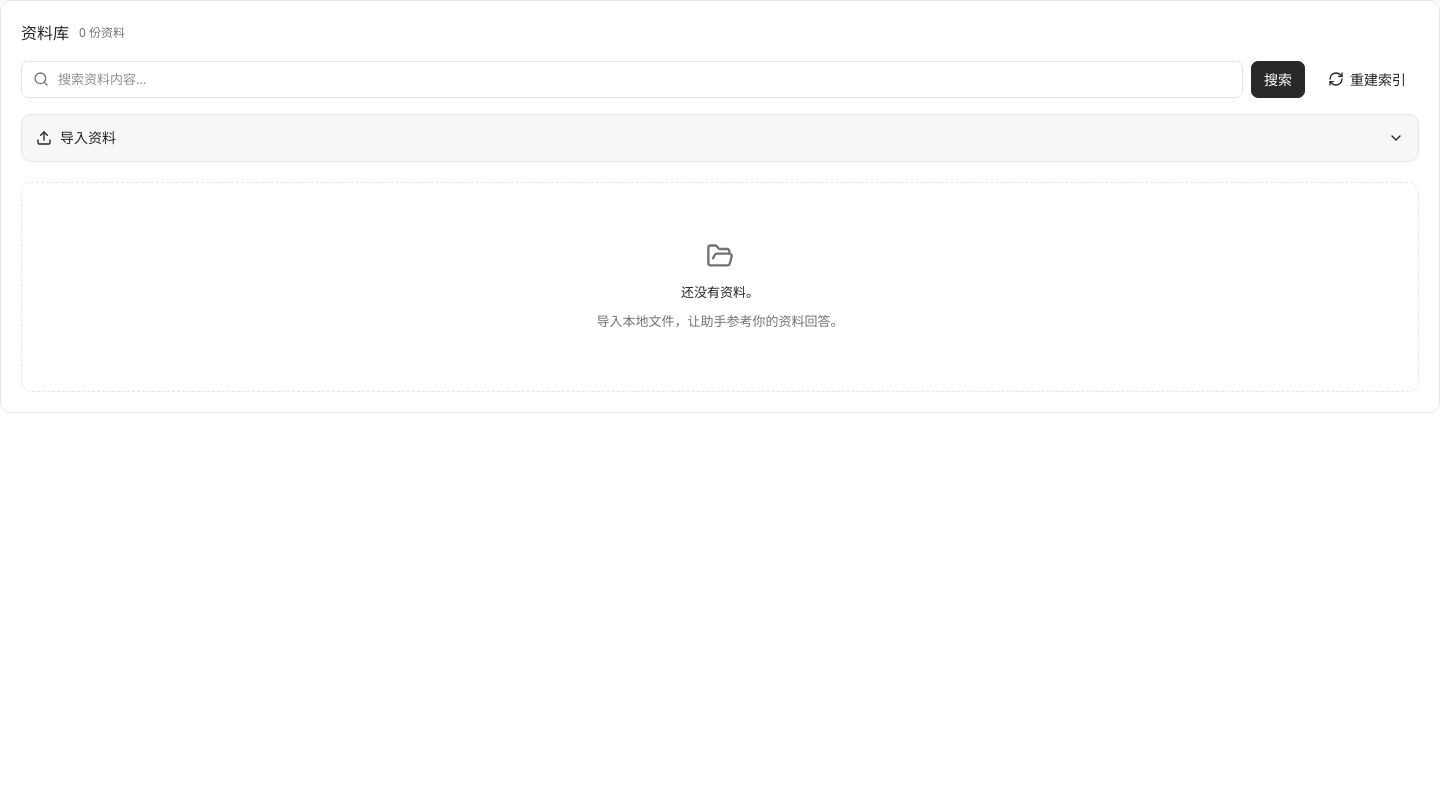
MaterialsLibrary › shows import field errors and IPC failures
The image size is (1440, 810).
Expected: the text "还没有资料。" is shown, [681,282,759,303]
Click the heading "导入资料" at (88, 137), box [36,128,1404,147]
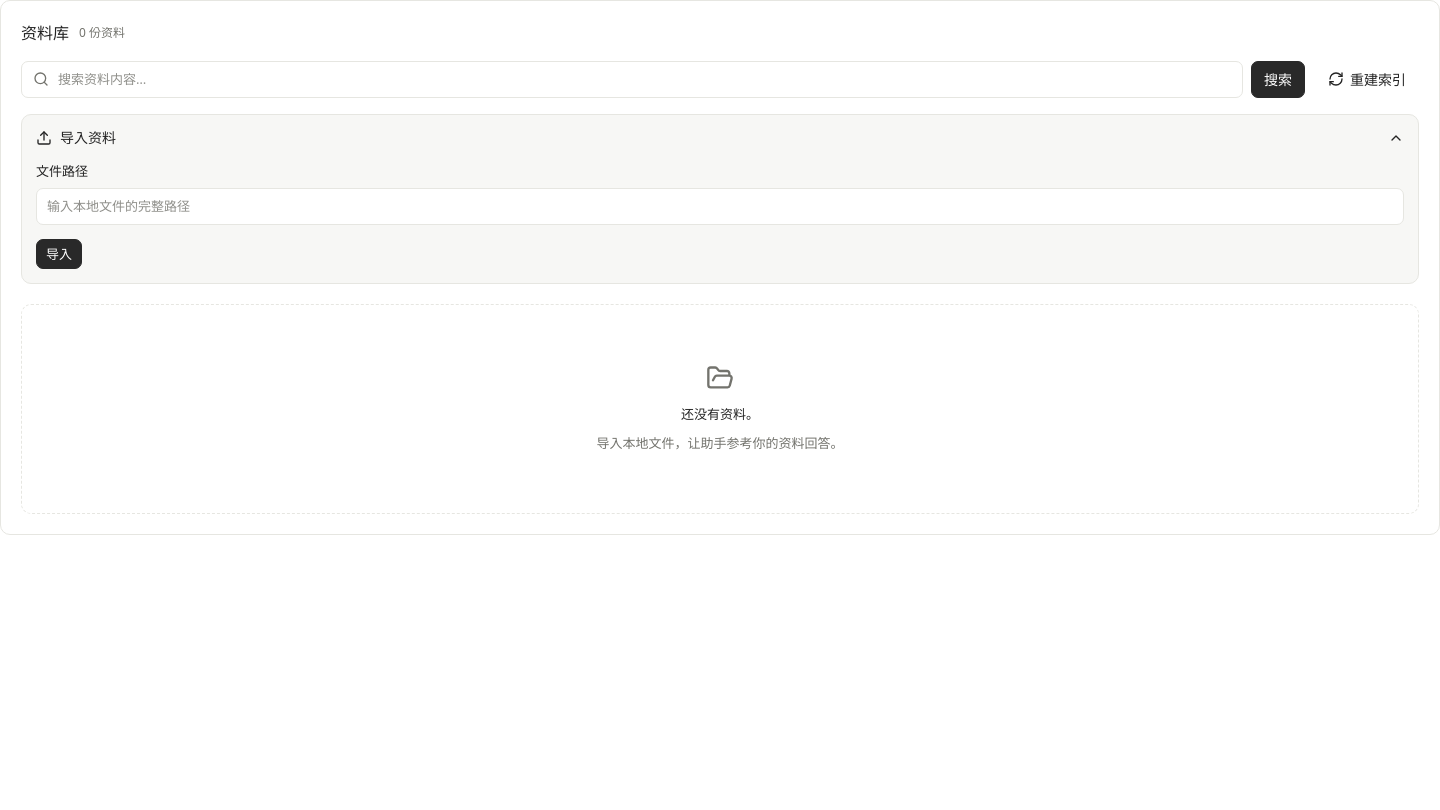
Type "relative.md" into the field labelled "文件路径" at (720, 206), box [36,188,1404,225]
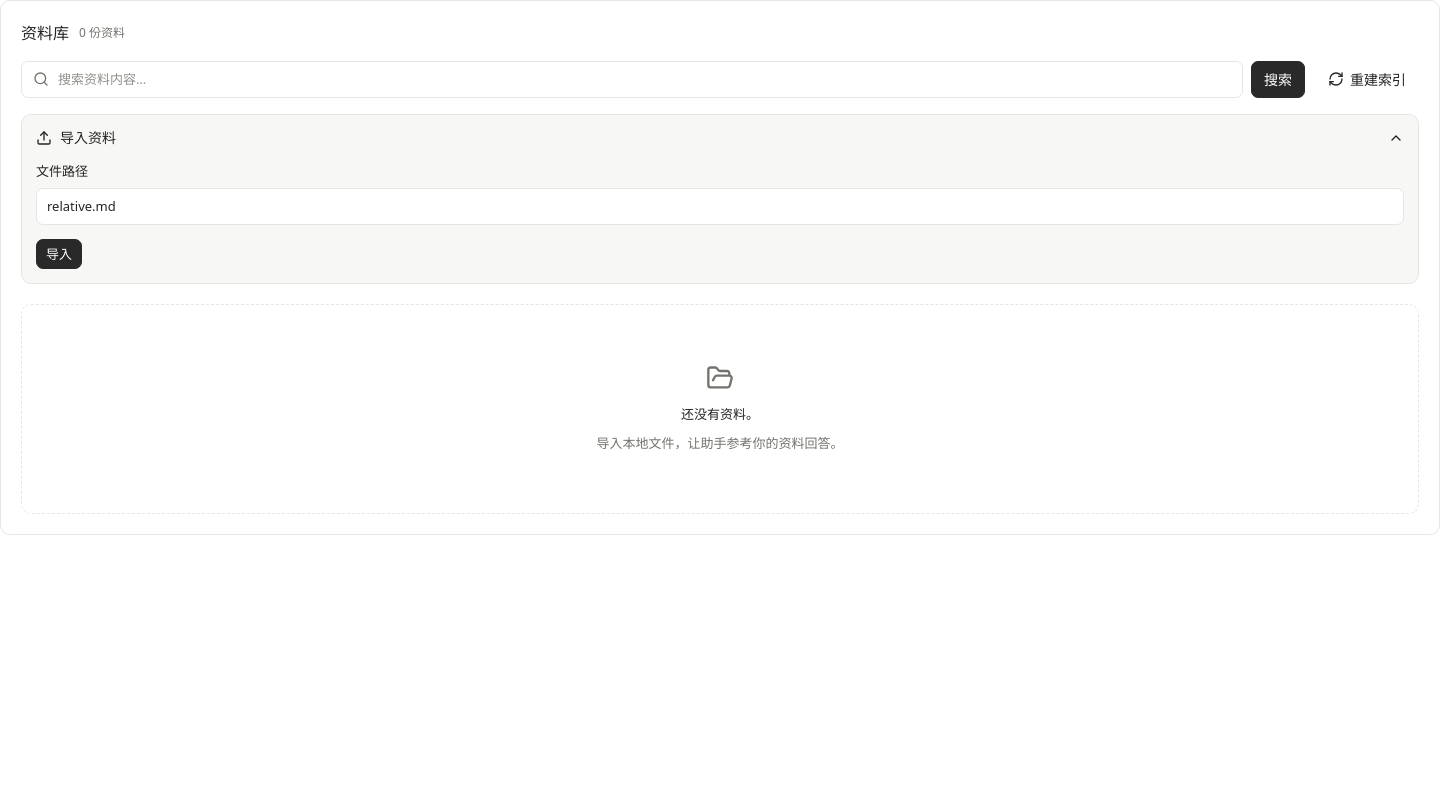
Click the button "导入" at (59, 254), box [36,239,82,269]
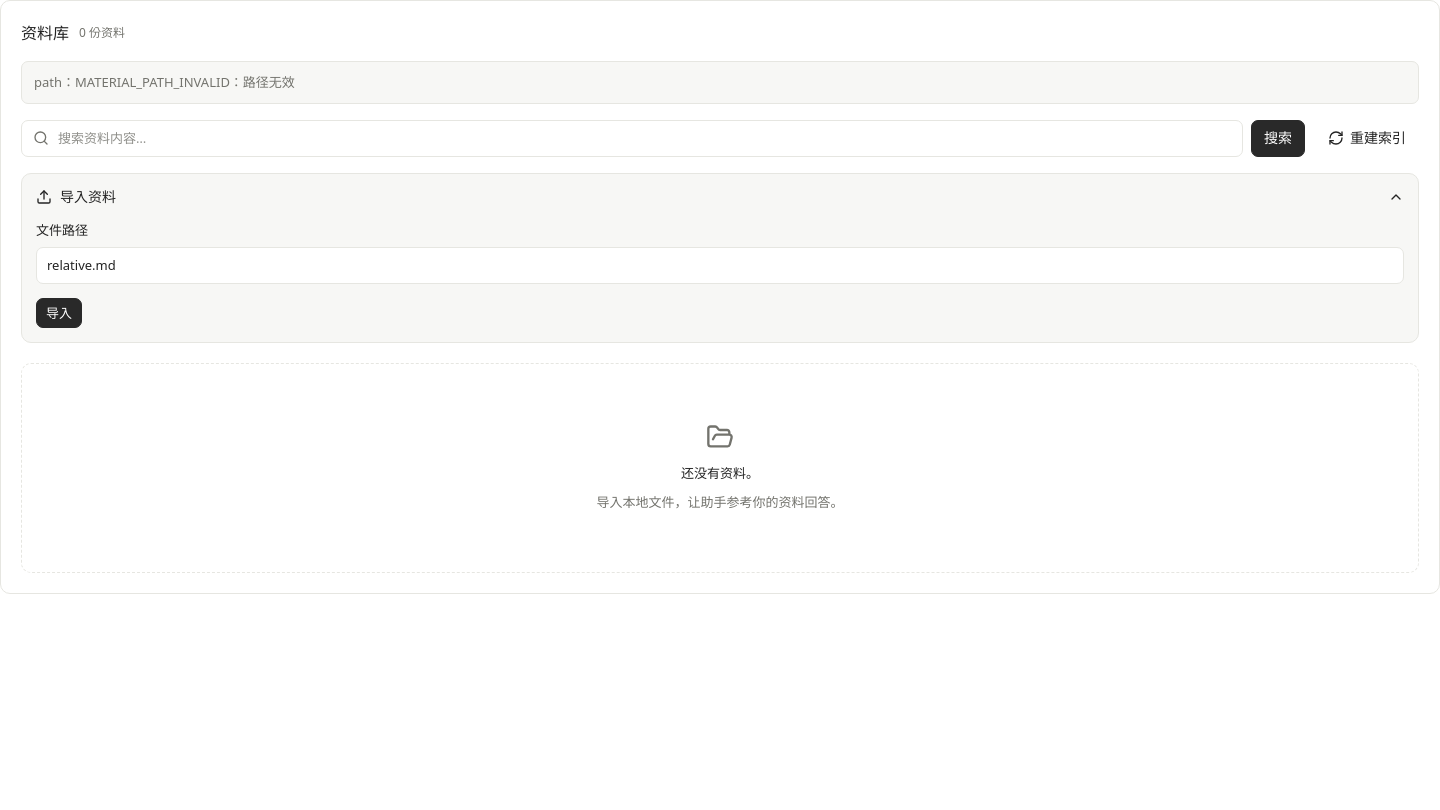
Expected: the message reads "path：MATERIAL_PATH_INVALID：路径无效", [34,73,295,91]
Type "订单" into the field named "检索词" at (632, 138), box [21,120,1243,157]
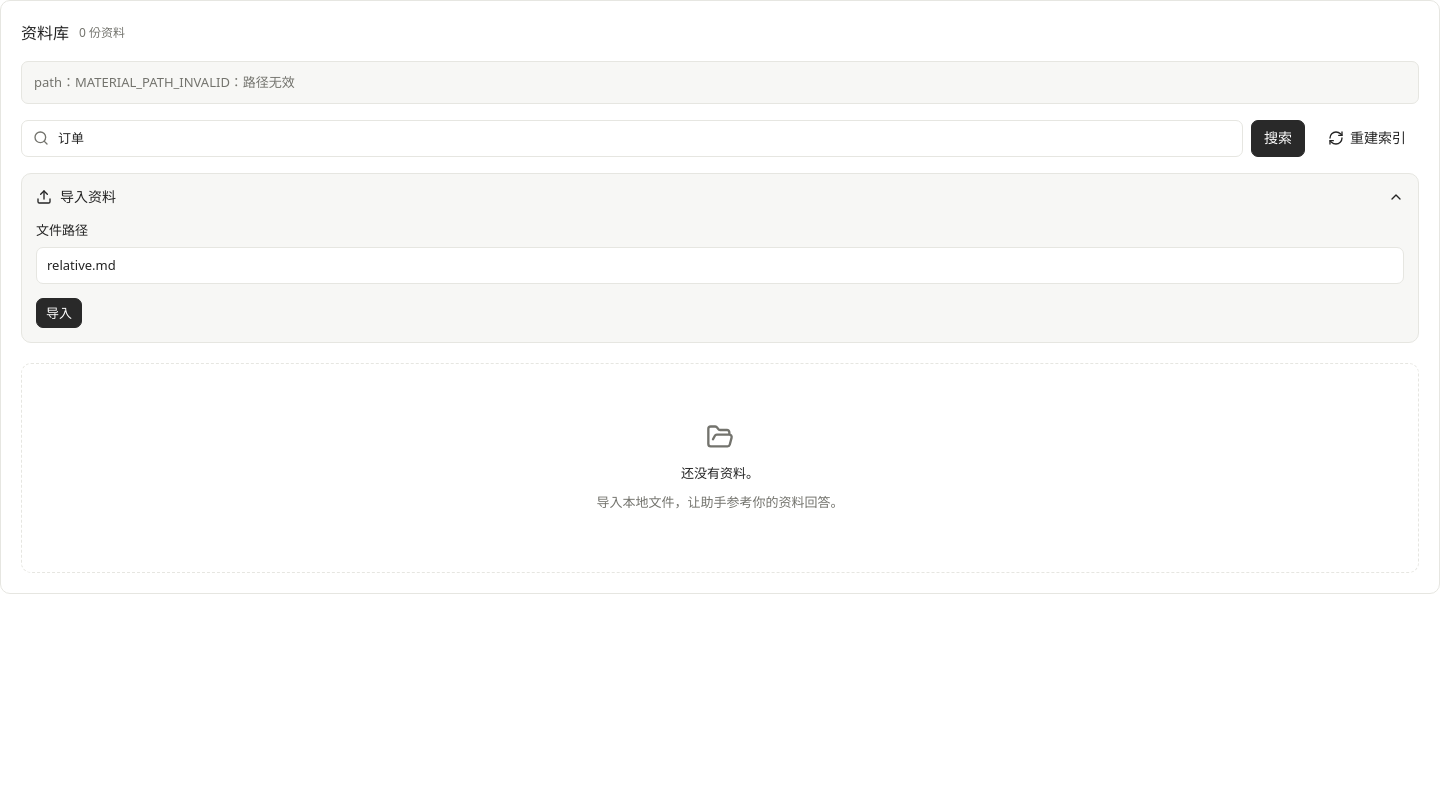
Click the button "搜索" at (1278, 138), box [1251,120,1305,157]
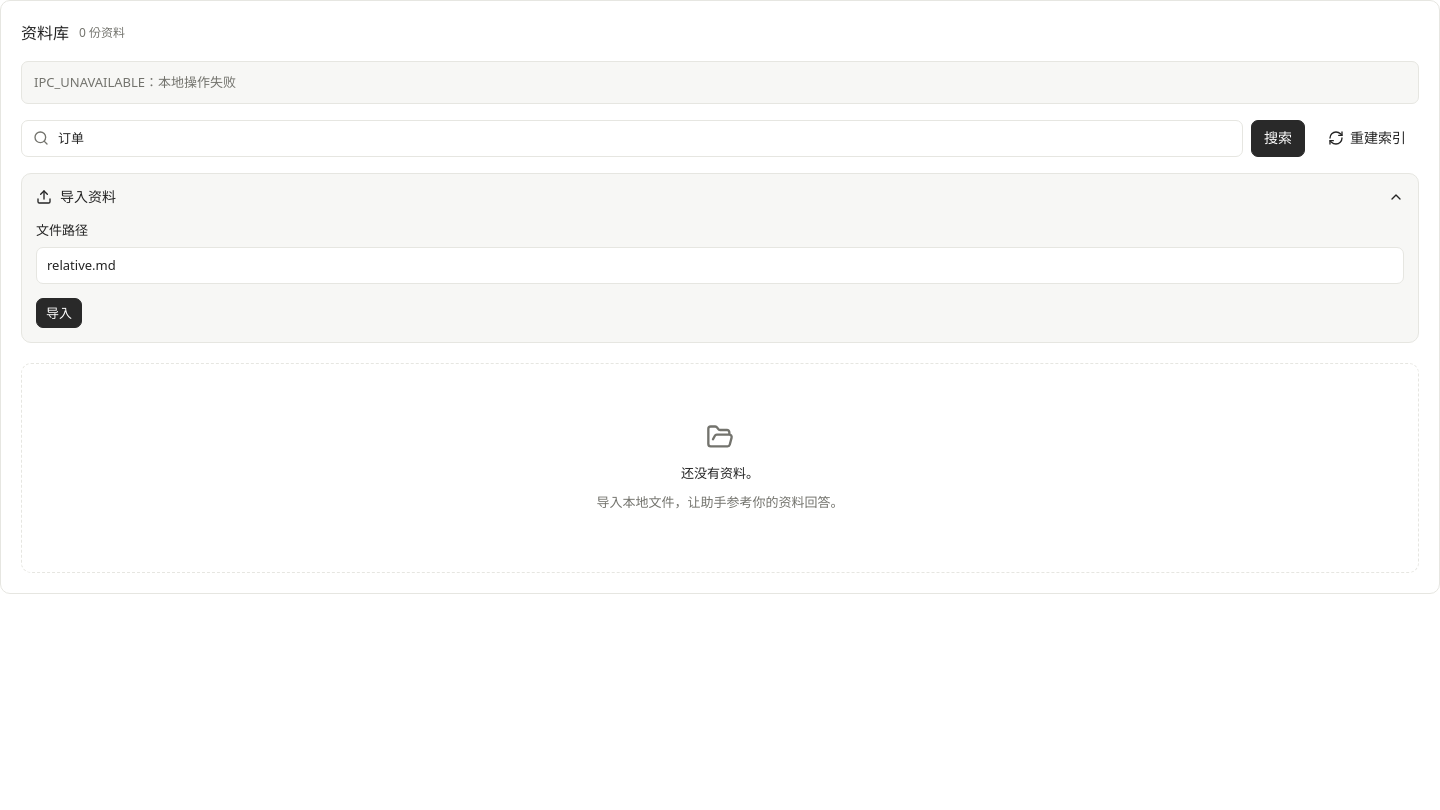
Expected: the message shows "IPC_UNAVAILABLE：", [34,73,236,91]
